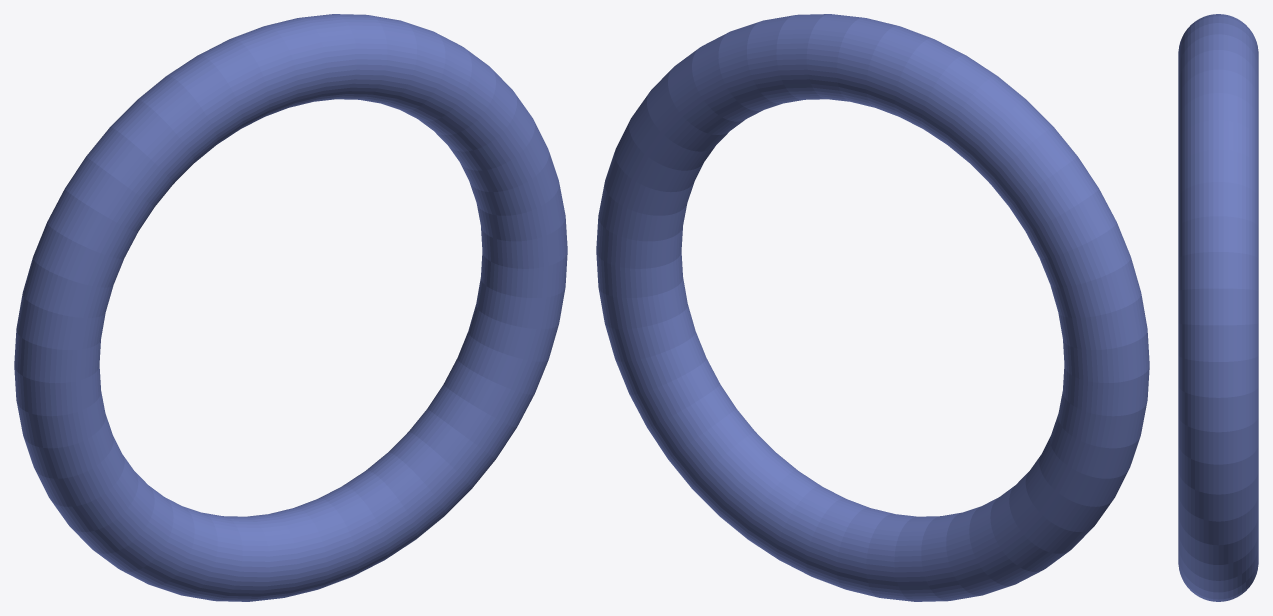
3 renders of one model, left to right at view 1: azimuth 30°, elevation 25°; view 2: azimuth 150°, elevation 25°; view 3: azimuth 270°, elevation 25°, orthographic. The views are drawn at different scales.
Parts seen in each view (by area): view 1: world; view 2: world; view 3: world.
Part boxes in pixels (x1,y1,x2,y2): world: (14,14,567,601); world: (596,14,1149,601); world: (1178,14,1258,601).
Size of the model in its own units: 14.67 by 14.64 by 2.
